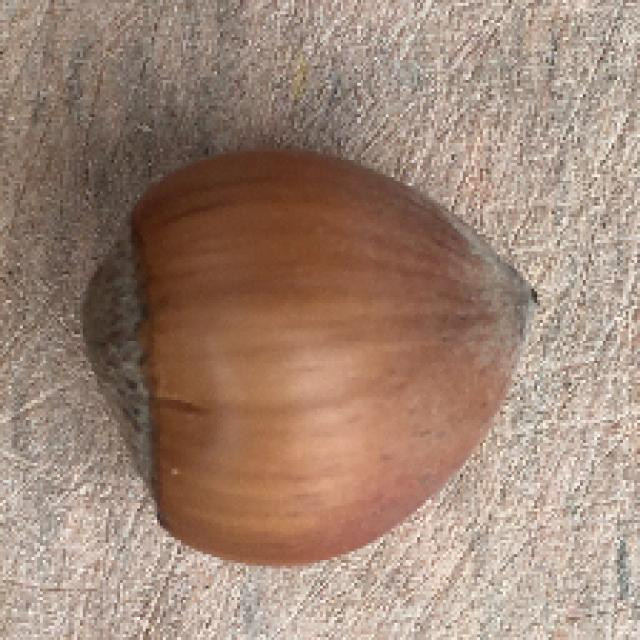qualityHazelnut: (66, 145, 542, 566)
